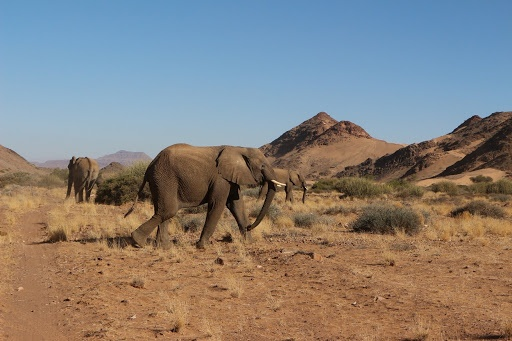elephant: (206, 197, 364, 304), (83, 175, 113, 220)
